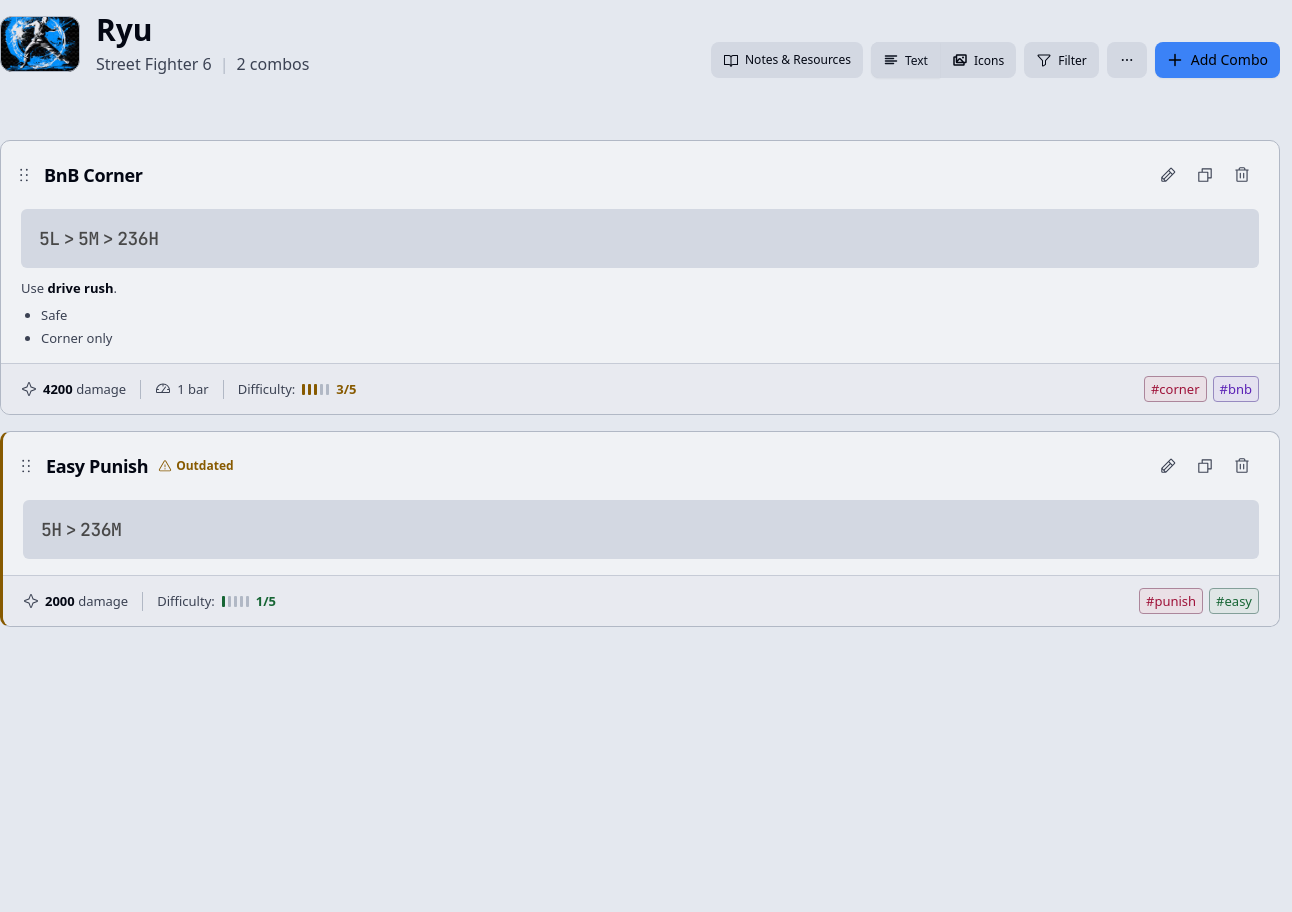
Test: ComboView › keeps notes and resource actions out of the overflow menu
Click the button named "More options".
click(1127, 60)  # box [1107,42,1147,78]
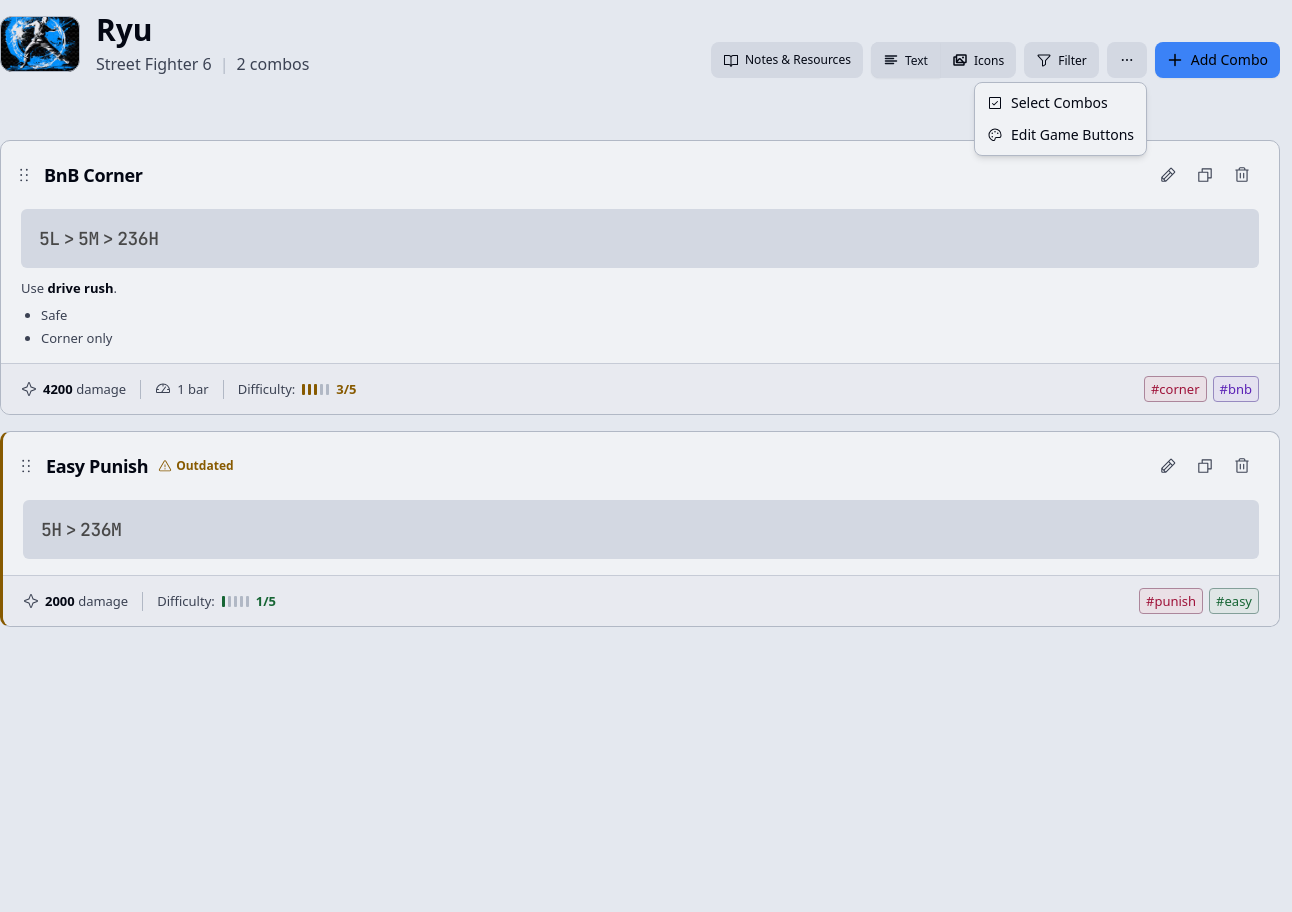
Expected: the menu item "Select Combos" is shown, [987,93,1108,112]
Expected: the menu item "Edit Game Buttons" is shown, [987,125,1134,144]
